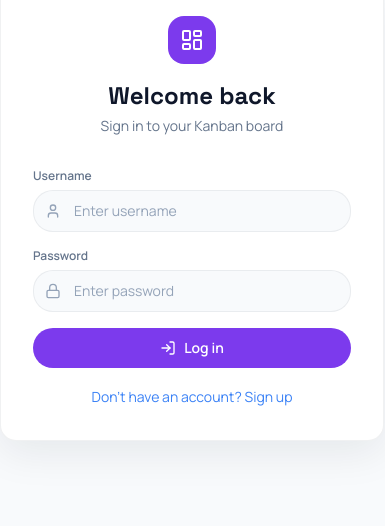
Test case: LoginForm › does not submit with empty password
Type "user" into the field labelled "Username" at (192, 211), box top-left (33, 190), bottom-right (351, 232)
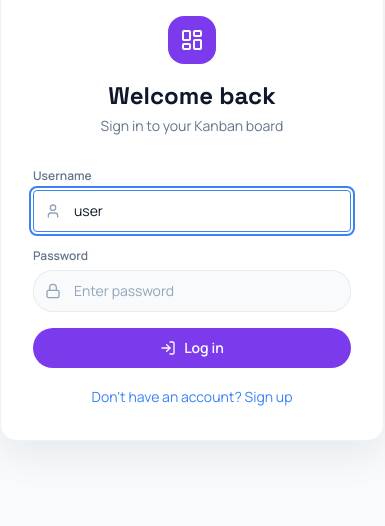
Click the button "Log in" at (192, 348), box top-left (33, 328), bottom-right (351, 368)
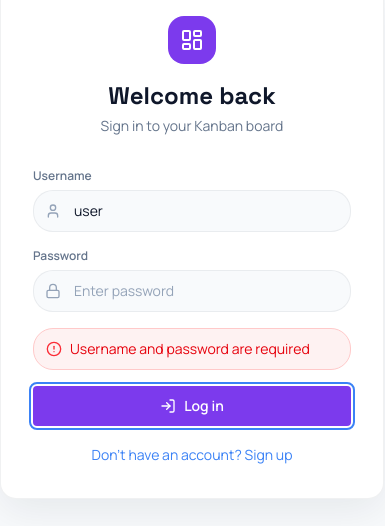
Check: the text "Username and password are required" is shown, box top-left (70, 339), bottom-right (310, 359)
